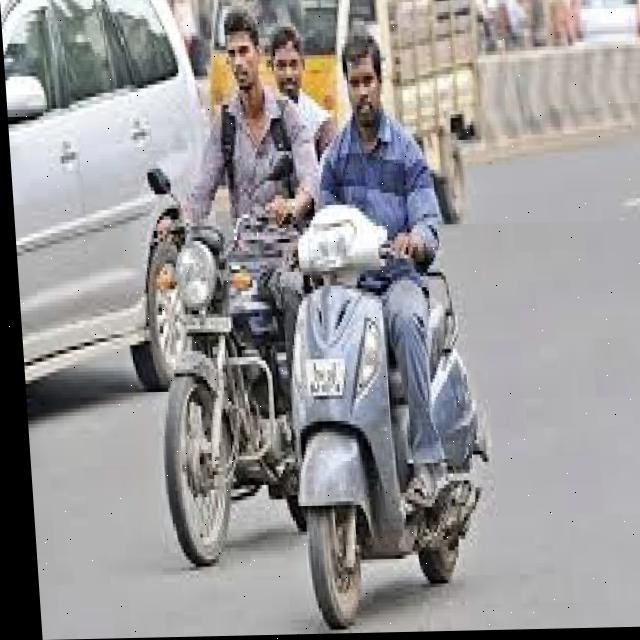without helmet: (333, 25, 399, 135), (214, 0, 271, 104), (264, 19, 314, 107)
